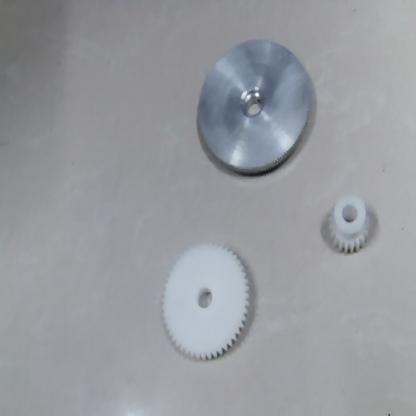FOD: (189, 28, 319, 184), (157, 239, 257, 364), (320, 193, 375, 259)
